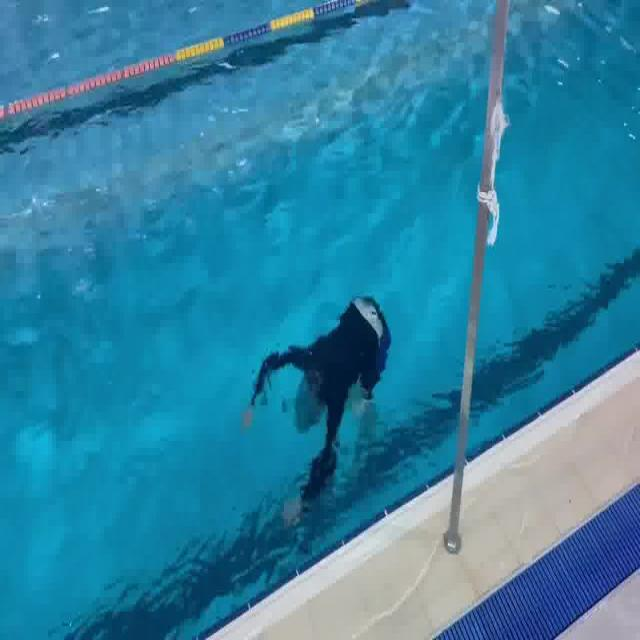Drowning: (242, 296, 394, 516)
